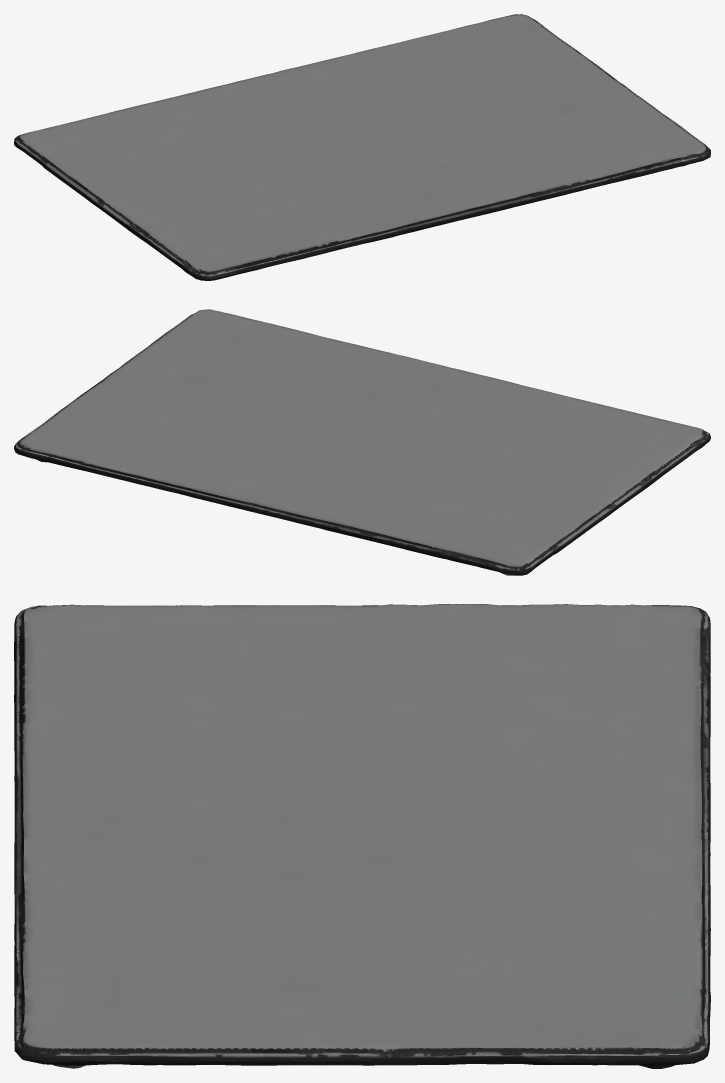
The model's file is deskmat.glb.
3 views of the same model, one above another, from view 1: azimuth 30°, elevation 25°; view 2: azimuth 150°, elevation 25°; view 3: azimuth 270°, elevation 25° (orthographic). The views are drawn at different scales.
Size of the model in its own units: 1.9 by 0.057 by 1.23.
Materials: 1 (1 with a texture image).
